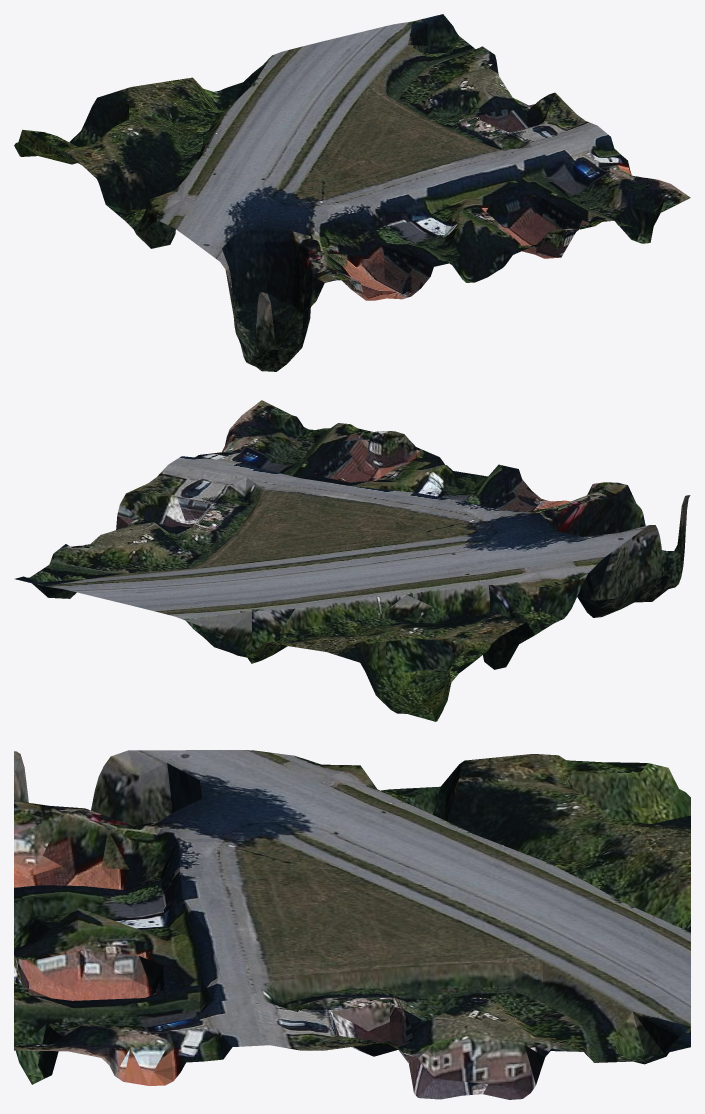
File: map_15_8187_13791.dae
3 renders of one model, top to bottom at view 1: azimuth 30°, elevation 25°; view 2: azimuth 150°, elevation 25°; view 3: azimuth 270°, elevation 25°, orthographic. The views are drawn at different scales.
Parts seen in each view (by area): view 1: Ter0; view 2: Ter0; view 3: Ter0.
Boxes of the visible parts, bbox=[...] form: Ter0: bbox=[14, 14, 690, 371]; Ter0: bbox=[15, 400, 690, 721]; Ter0: bbox=[14, 750, 690, 1099].
Bounding box in the file's own units: 63.87 × 63.88 × 14.89.
Materials: 2 (2 with a texture image).
